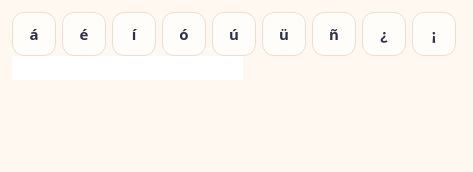
字元列 › 點一下就插進輸入框
This screenshot has width=473, height=172.
Click the button "ñ" at (334, 34), box [312, 12, 356, 56]
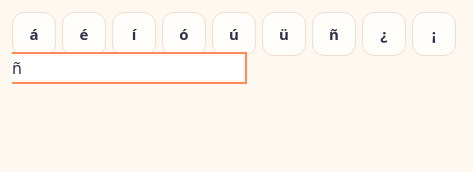
Expected: the field named "答案" holds "ñ", [12, 56, 243, 80]
